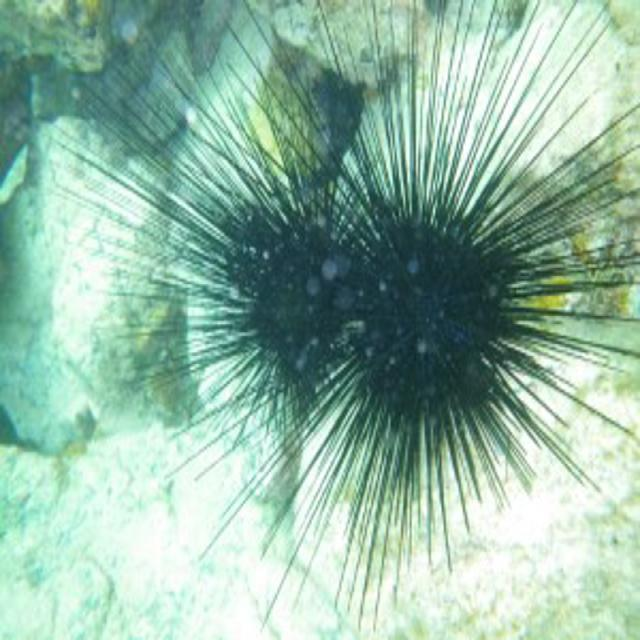Urchin: (243, 1, 640, 531), (90, 17, 415, 483)
